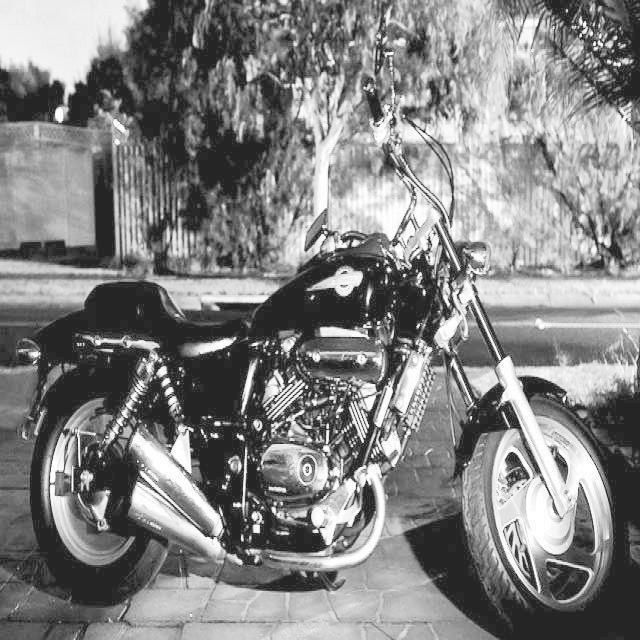Motorcycle: (29, 28, 625, 640)
